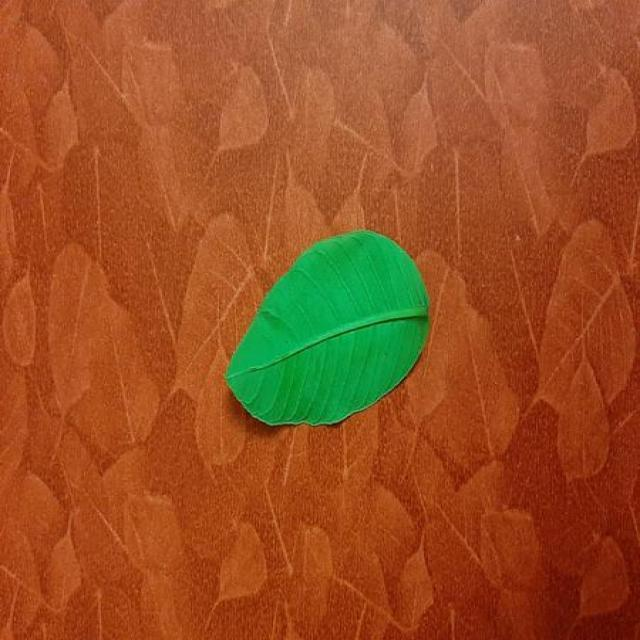leaf: (223, 227, 431, 427)
